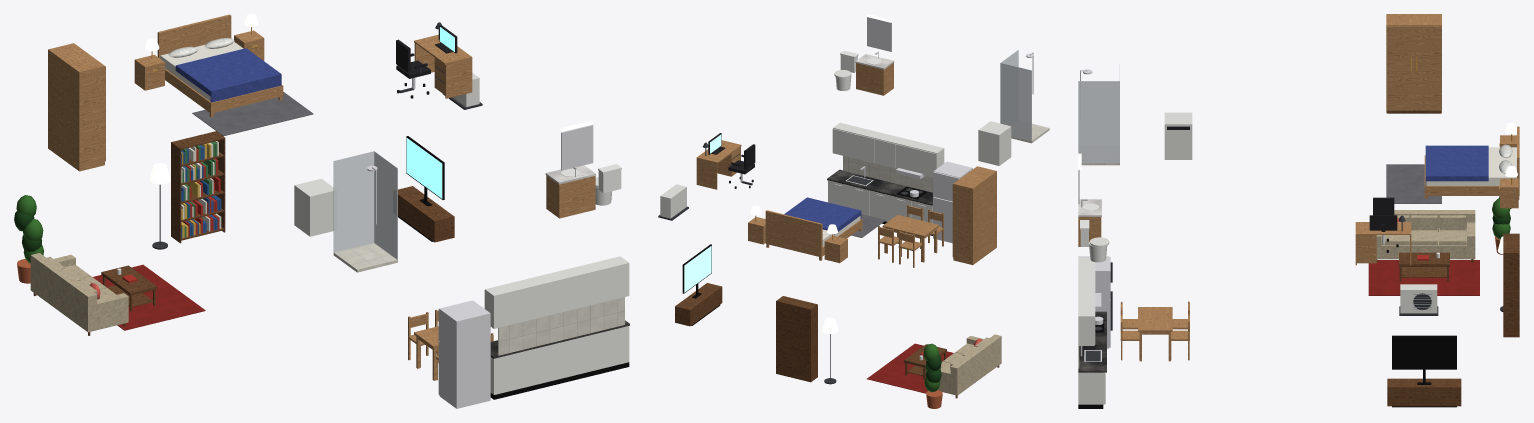
The model's file is i_solar_row_house.gltf.
3 views of the same model, side by side, from view 1: azimuth 30°, elevation 25°; view 2: azimuth 150°, elevation 25°; view 3: azimuth 270°, elevation 25° (orthographic). The views are drawn at different scales.
Parts seen in each view (by area): view 1: I_solar_row_house; view 2: I_solar_row_house; view 3: I_solar_row_house.
Boxes of the visible parts, x1,y1,x2,y2 form: I_solar_row_house: [14, 14, 629, 408]; I_solar_row_house: [658, 14, 1049, 408]; I_solar_row_house: [1078, 14, 1519, 408].
Size of the model in its own units: 9.09 by 5.5 by 9.52.
34 materials, 12 textured.
